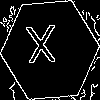X: (25, 25, 58, 73)
